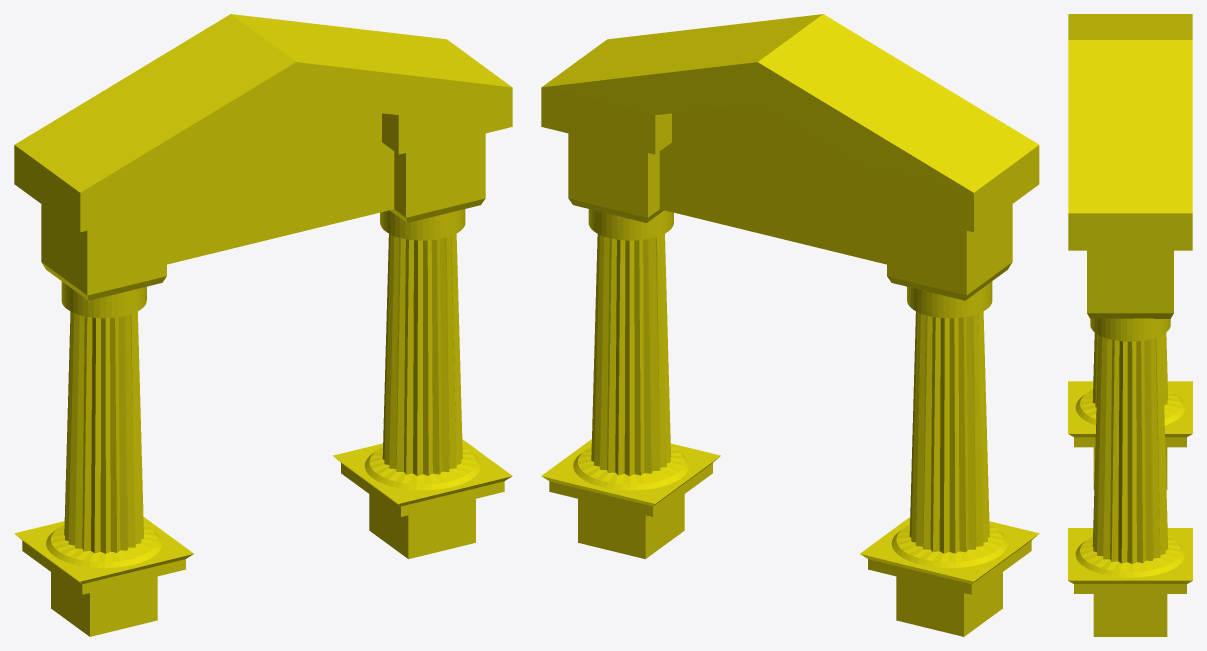
The model's file is Gate.fbx.
3 views of the same model, side by side, from view 1: azimuth 30°, elevation 25°; view 2: azimuth 150°, elevation 25°; view 3: azimuth 270°, elevation 25° (orthographic). The views are drawn at different scales.
Parts seen in each view (by area): view 1: Cube; view 2: Cube; view 3: Cube.
Part boxes in pixels (x1,y1,x2,y2): Cube: (14, 14, 512, 636); Cube: (541, 14, 1039, 636); Cube: (1068, 14, 1192, 636).
Size of the model in its own units: 1917 by 2275 by 506.
